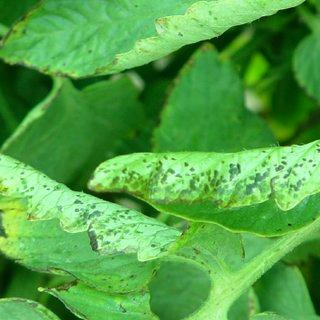Tomato leaf bacterial spot: (3, 143, 185, 293), (79, 147, 319, 235)
